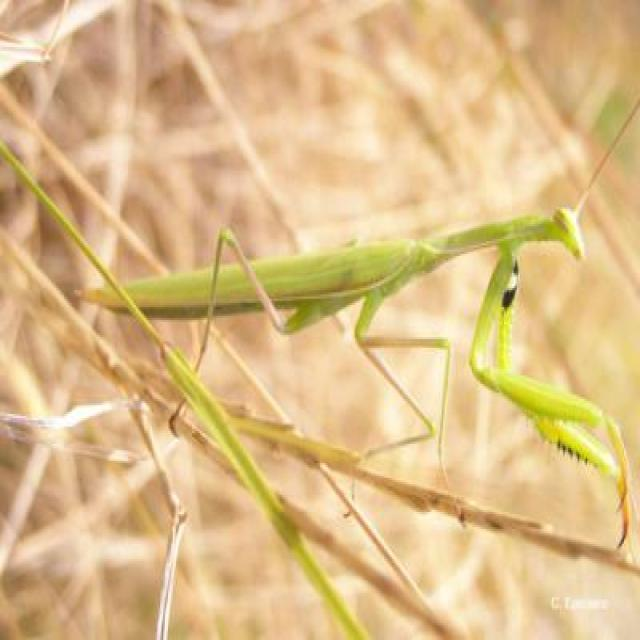antennae: (574, 108, 636, 215)
body: (83, 212, 582, 323)
insect: (76, 102, 638, 554)
legs: (470, 248, 634, 546), (165, 226, 350, 444), (497, 251, 632, 530), (353, 280, 454, 478), (356, 343, 444, 467)
mouthpart: (567, 240, 584, 260)
wings: (80, 240, 410, 318)
